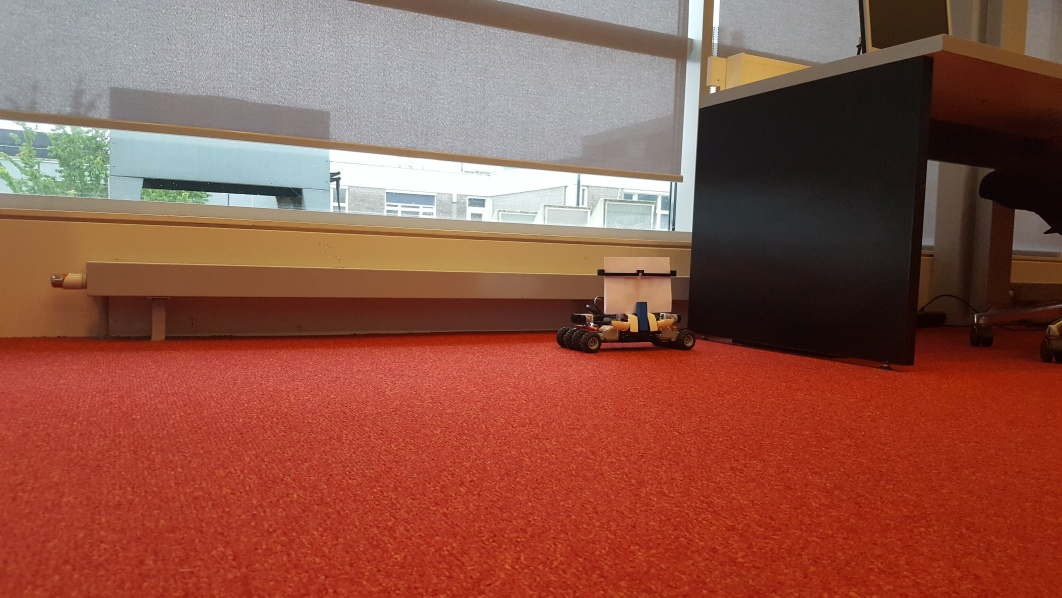car: (557, 256, 698, 354)
